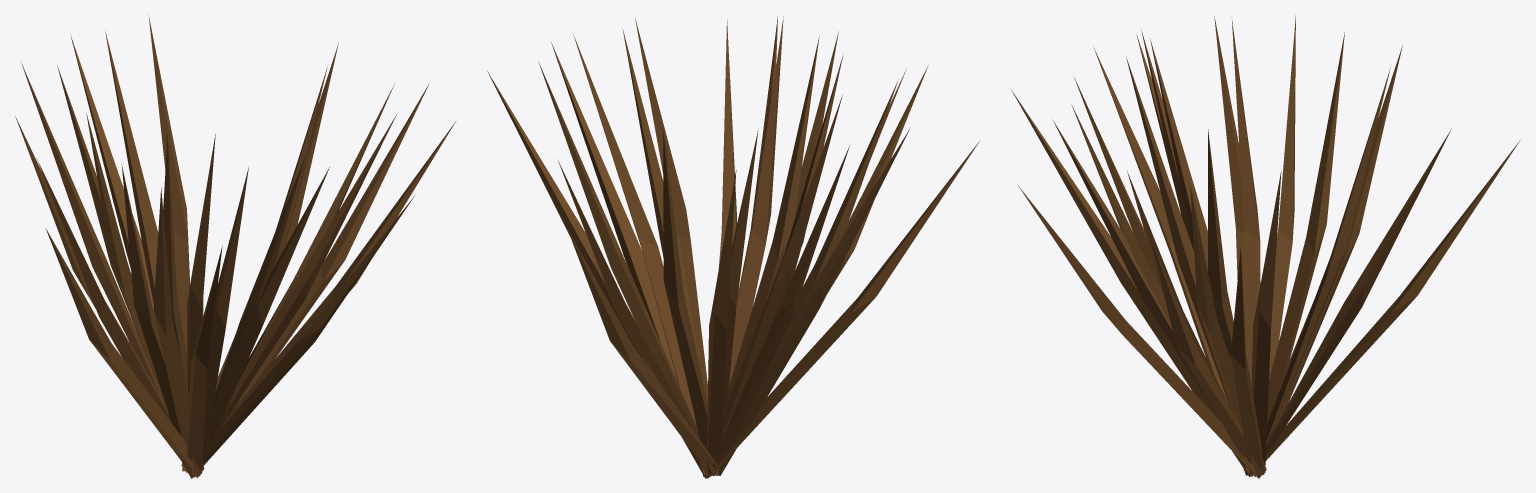
Rendered from DryBush_LOD1.fbx.
3 views of the same model, side by side, from view 1: azimuth 30°, elevation 25°; view 2: azimuth 150°, elevation 25°; view 3: azimuth 270°, elevation 25° (orthographic).
Visible parts, largest first — view 1: DryBush_LOD1; view 2: DryBush_LOD1; view 3: DryBush_LOD1.
Boxes of the visible parts, left/top/right/bottom form: DryBush_LOD1: left=15, top=15, right=455, bottom=478; DryBush_LOD1: left=487, top=16, right=979, bottom=478; DryBush_LOD1: left=1011, top=15, right=1520, bottom=478.
Bounding box in the file's own units: 92.67 × 80.17 × 91.58.
